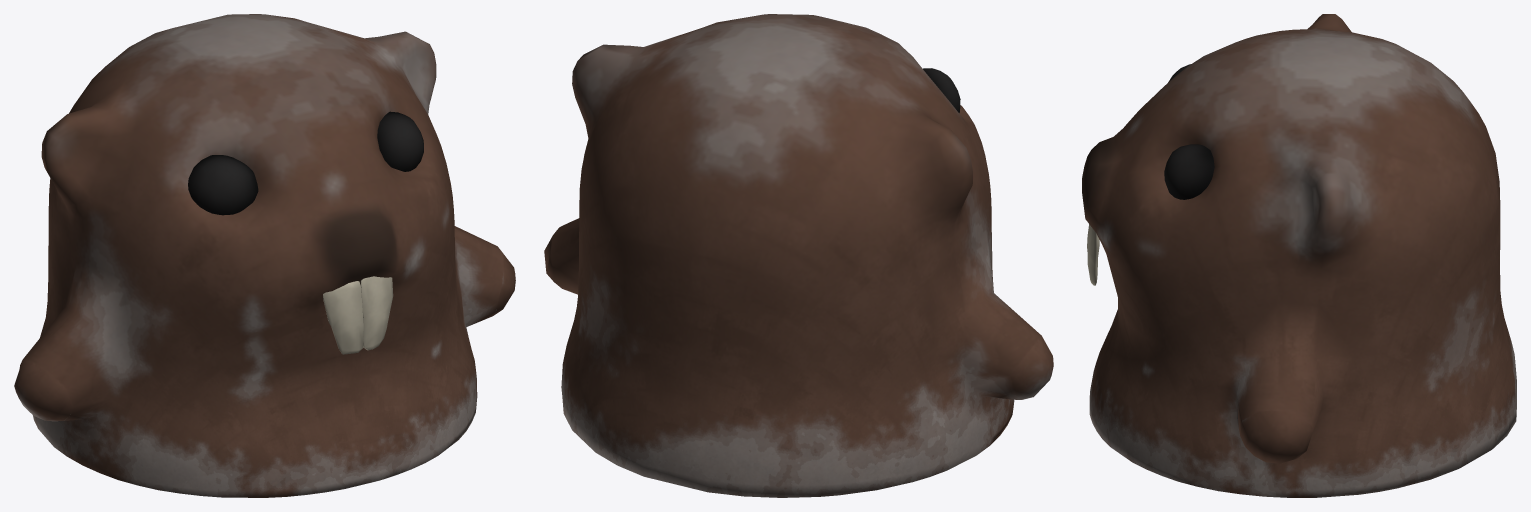
The model's file is swistak1.fbx.
3 renders of one model, left to right at view 1: azimuth 30°, elevation 25°; view 2: azimuth 150°, elevation 25°; view 3: azimuth 270°, elevation 25°, orthographic. The views are drawn at different scales.
Visible parts, largest first — view 1: marmot1; view 2: marmot1; view 3: marmot1.
Part boxes in pixels (x1,y1,x2,y2): marmot1: [14, 14, 515, 497]; marmot1: [544, 14, 1053, 497]; marmot1: [1082, 14, 1516, 497].
Size of the model in its own units: 37.38 by 26.04 by 29.27.
1 material, 1 textured.
